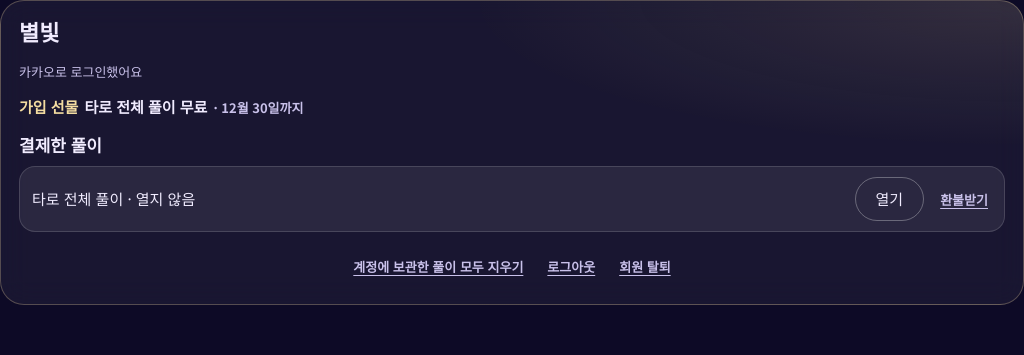
AccountPanel › when the logout does not go through, keeps everything and says so
Click the button "로그아웃" at (571, 266), box top-left (543, 244), bottom-right (599, 288)
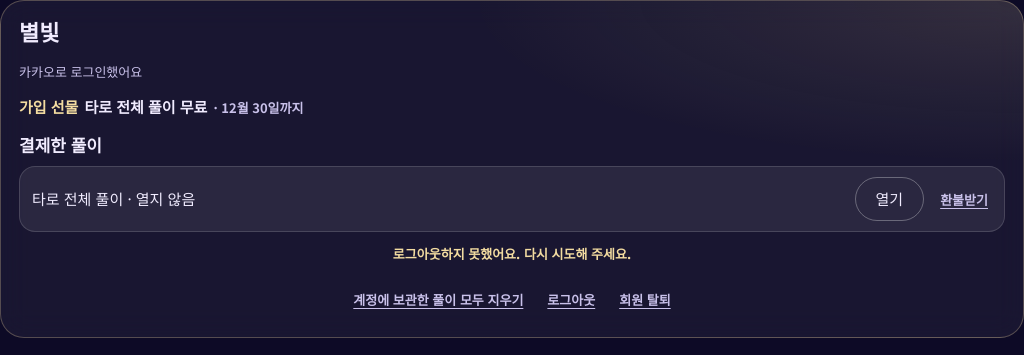
expect the text "로그아웃하지 못했어요. 다시 시도해 주세요." is shown: met, box top-left (393, 244), bottom-right (631, 263)
